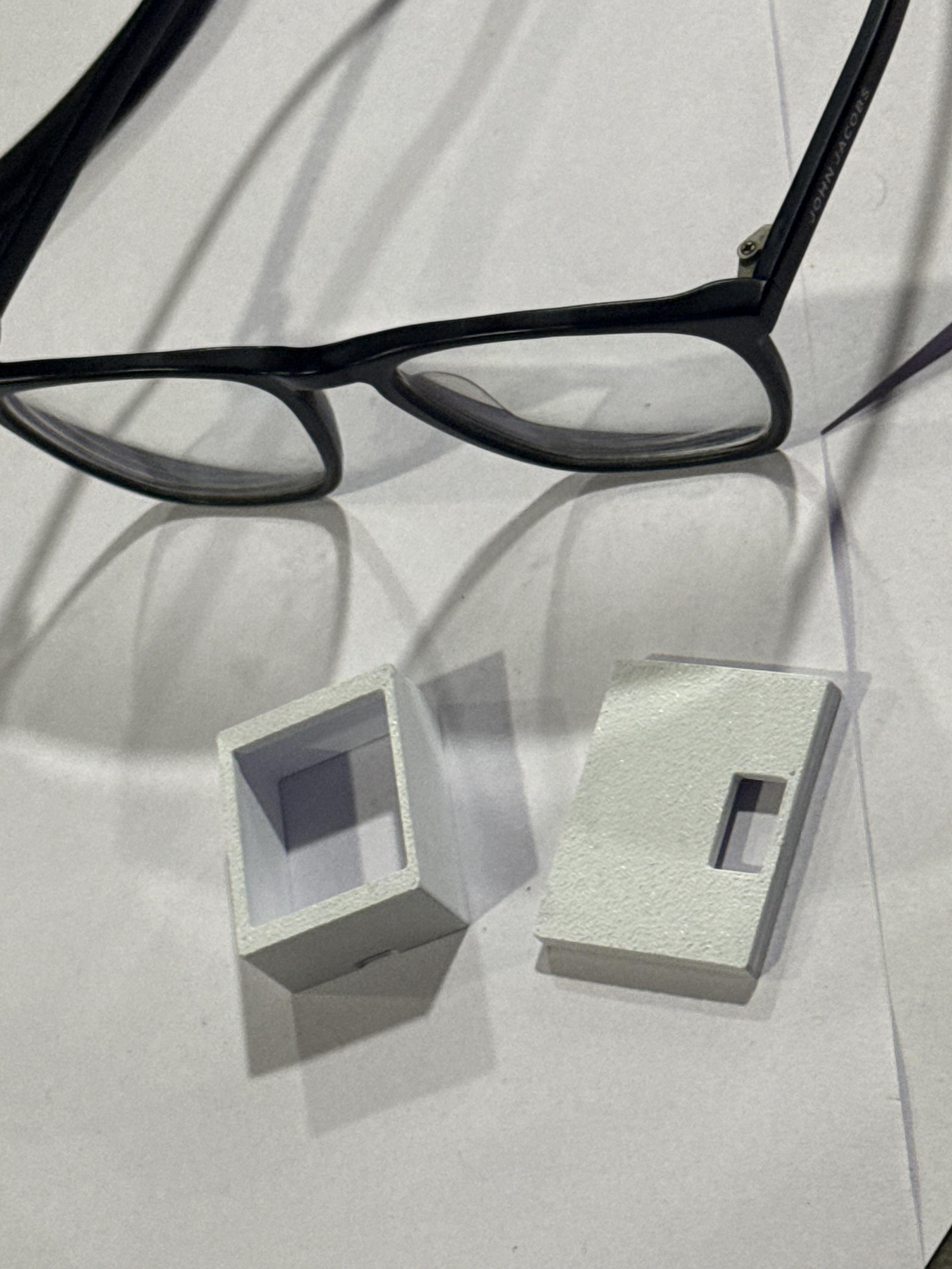enclosure: (533, 655, 844, 1006), (216, 663, 470, 996)
